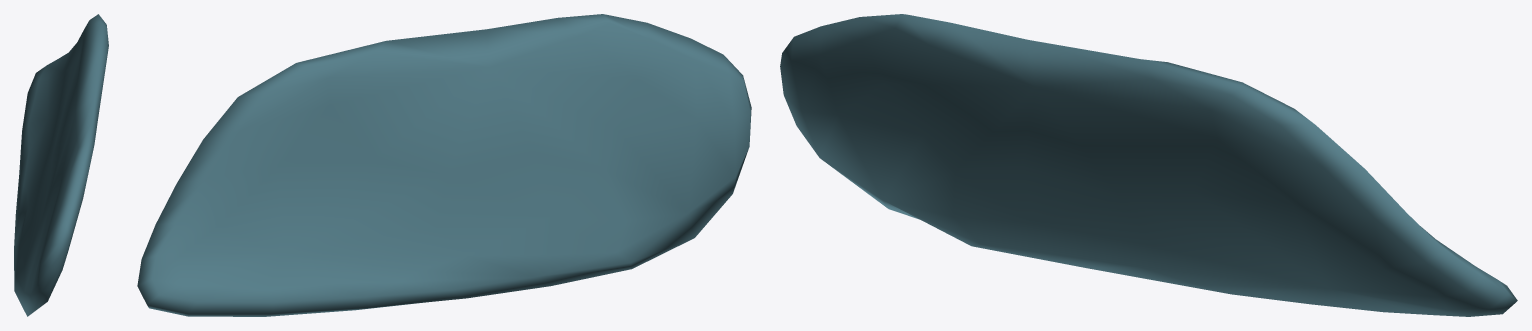
File: Omohyoid_hyoid_bone_left.glb
3 views of the same model, side by side, from view 1: azimuth 30°, elevation 25°; view 2: azimuth 150°, elevation 25°; view 3: azimuth 270°, elevation 25° (orthographic). The views are drawn at different scales.
Parts seen in each view (by area): view 1: Omohyoid_muscle_on_hyoid_bone.l_Generated_Mesh_From_X3D.948; view 2: Omohyoid_muscle_on_hyoid_bone.l_Generated_Mesh_From_X3D.948; view 3: Omohyoid_muscle_on_hyoid_bone.l_Generated_Mesh_From_X3D.948.
Boxes of the visible parts, x1,y1,x2,y2 form: Omohyoid_muscle_on_hyoid_bone.l_Generated_Mesh_From_X3D.948: [14, 14, 108, 316]; Omohyoid_muscle_on_hyoid_bone.l_Generated_Mesh_From_X3D.948: [137, 14, 751, 316]; Omohyoid_muscle_on_hyoid_bone.l_Generated_Mesh_From_X3D.948: [780, 14, 1517, 316].
Bounding box in the file's own units: 0.00499 × 0.00347 × 0.00826.
